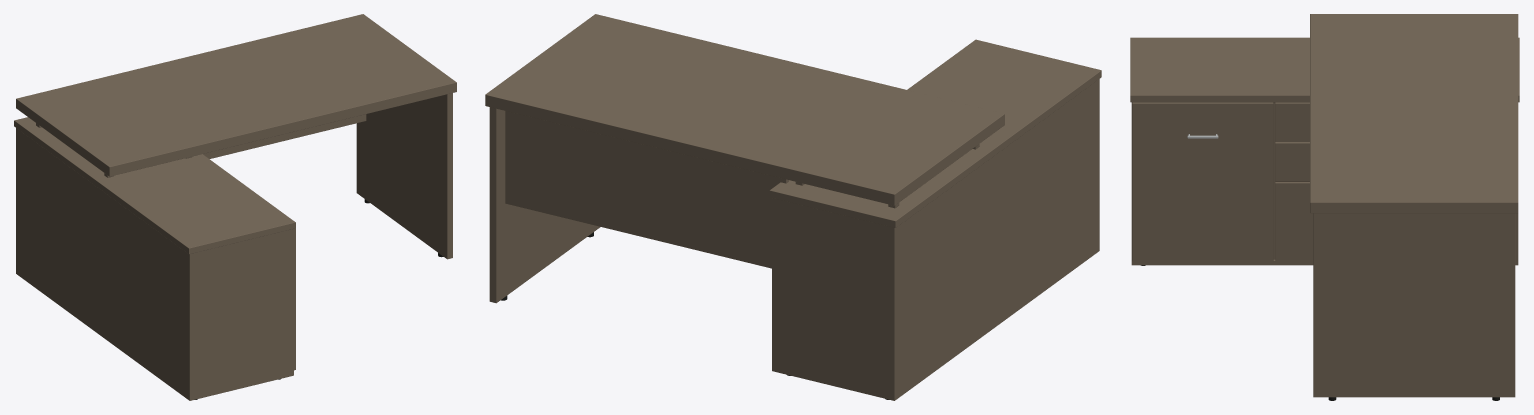
The model's file is mesa-malaga.glb.
3 views of the same model, side by side, from view 1: azimuth 30°, elevation 25°; view 2: azimuth 150°, elevation 25°; view 3: azimuth 270°, elevation 25° (orthographic). The views are drawn at different scales.
Visible parts, largest first — view 1: main-desktop, sideboard-back, sideboard-end, sideboard-top, right-panel-leg, rear-modesty-panel, sideboard-bottom; view 2: main-desktop, sideboard-back, rear-modesty-panel, sideboard-end, sideboard-top, right-panel-leg, sideboard-bottom; view 3: main-desktop, right-panel-leg, single-cupboard-door, sideboard-top, drawer-front-3, drawer-front-2, drawer-front-1, sideboard-bottom, sideboard-end, internal-divider.
Part boxes in pixels (<box>): main-desktop: <box>16,14,456,176</box>; sideboard-back: <box>16,120,192,398</box>; sideboard-end: <box>187,220,293,397</box>; sideboard-top: <box>14,117,295,254</box>; right-panel-leg: <box>356,93,452,259</box>; rear-modesty-panel: <box>203,114,366,158</box>; sideboard-bottom: <box>16,270,293,400</box>; main-desktop: <box>485,14,1004,205</box>; sideboard-back: <box>891,69,1099,397</box>; rear-modesty-panel: <box>505,111,788,268</box>; sideboard-end: <box>772,188,897,397</box>; sideboard-top: <box>769,39,1101,227</box>; right-panel-leg: <box>489,107,600,303</box>; sideboard-bottom: <box>772,246,1099,400</box>; main-desktop: <box>1310,14,1518,213</box>; right-panel-leg: <box>1313,213,1515,397</box>; single-cupboard-door: <box>1132,102,1273,261</box>; sideboard-top: <box>1130,37,1519,102</box>; drawer-front-3: <box>1275,182,1313,261</box>; drawer-front-2: <box>1275,142,1309,181</box>; drawer-front-1: <box>1275,102,1309,141</box>; sideboard-bottom: <box>1131,259,1518,265</box>; sideboard-end: <box>1131,38,1136,262</box>; internal-divider: <box>1273,102,1275,259</box>.
Bounding box in the file's own units: 1.51 × 0.74 × 1.31.
